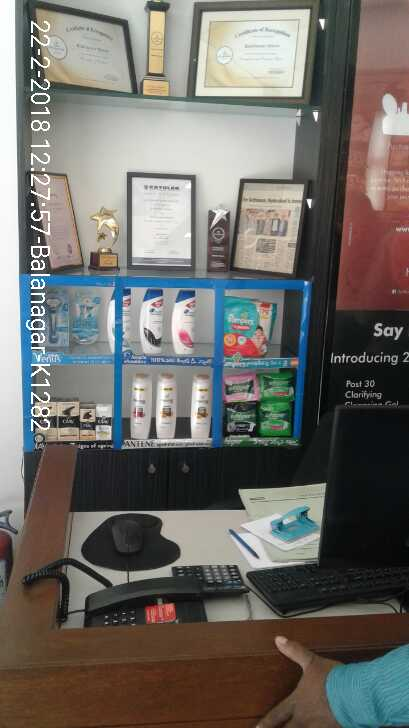venus: (72, 287, 104, 347), (42, 287, 68, 353)
